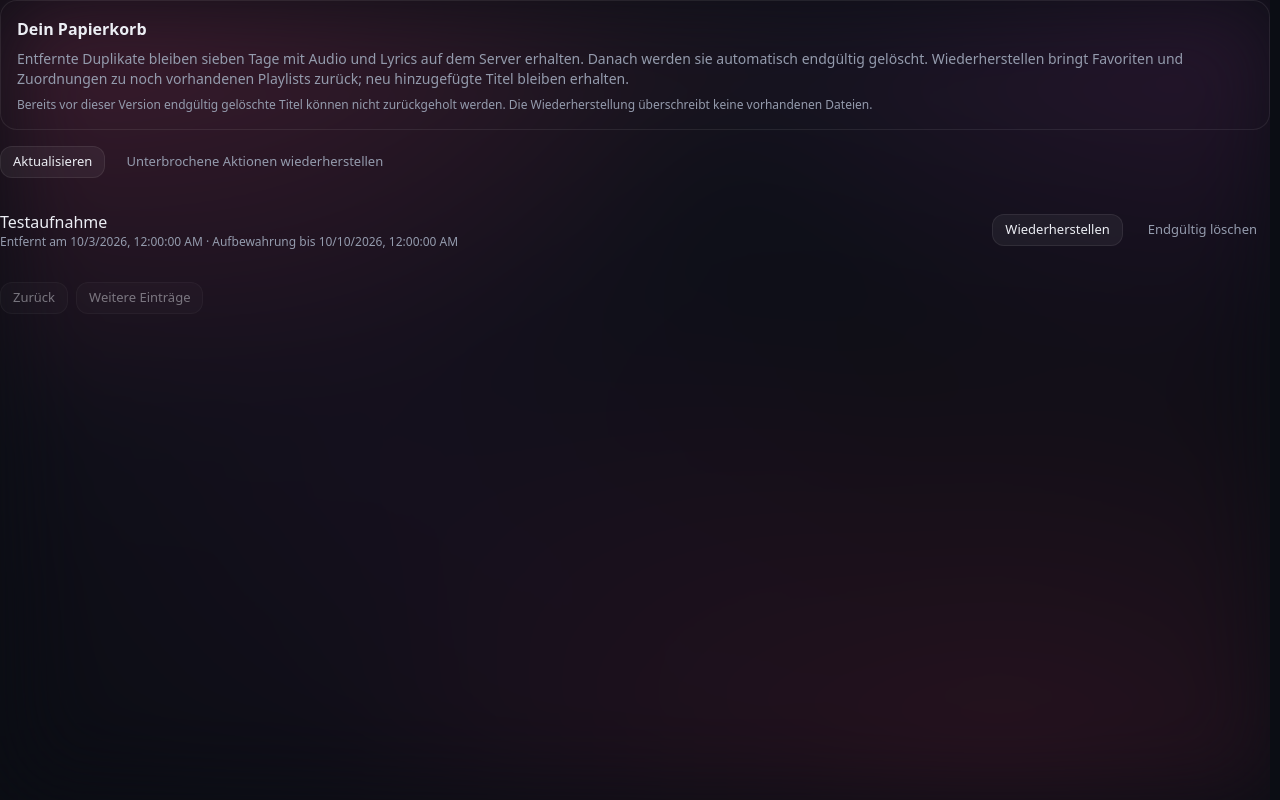
Trash restoration and permanent consent › sends permanent consent only after the final dialog button
Expected: the text "Testaufnahme" is shown, [0, 211, 107, 233]
Click the button "Endgültig löschen". click: [1202, 230]
box: [1135, 214, 1270, 246]
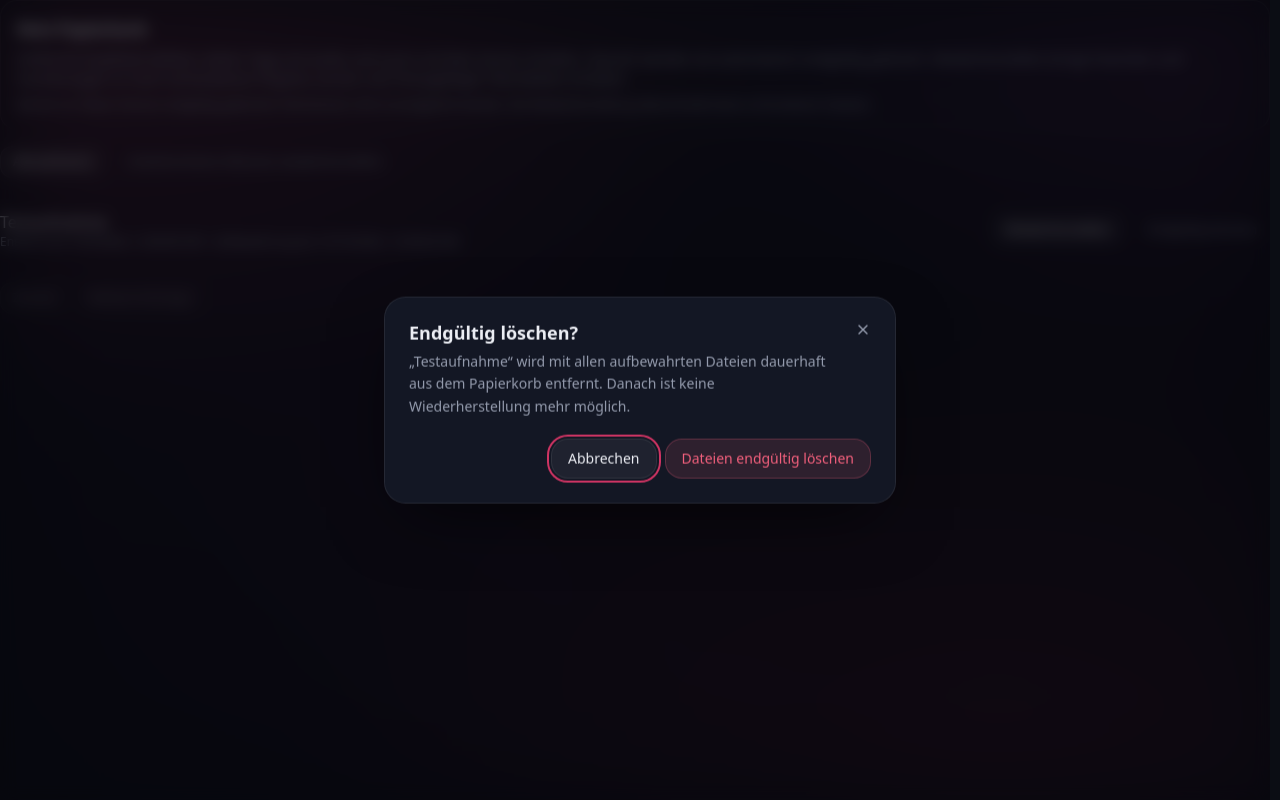
Click the button "Dateien endgültig löschen". click: [768, 458]
box: [664, 438, 871, 478]
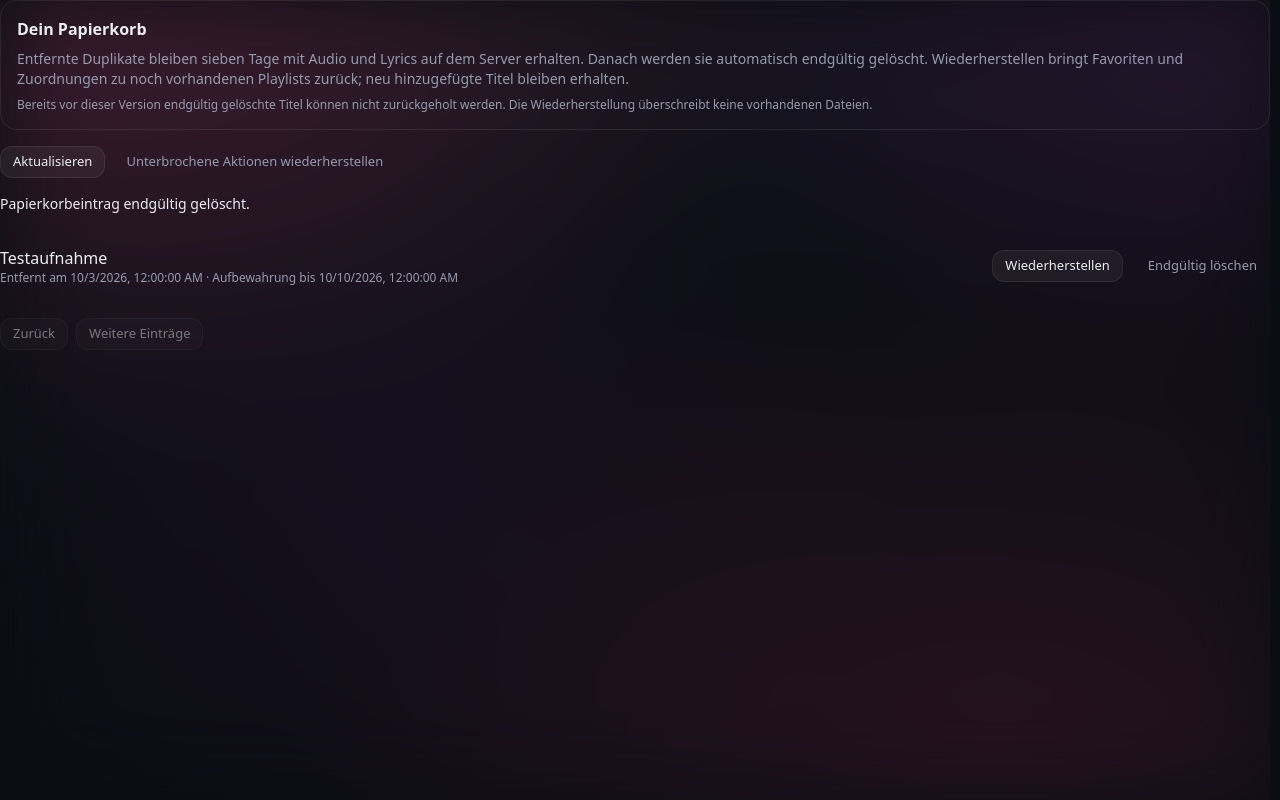
Expected: the text "Papierkorbeintrag endgültig gelöscht." is shown, [0, 194, 250, 213]
